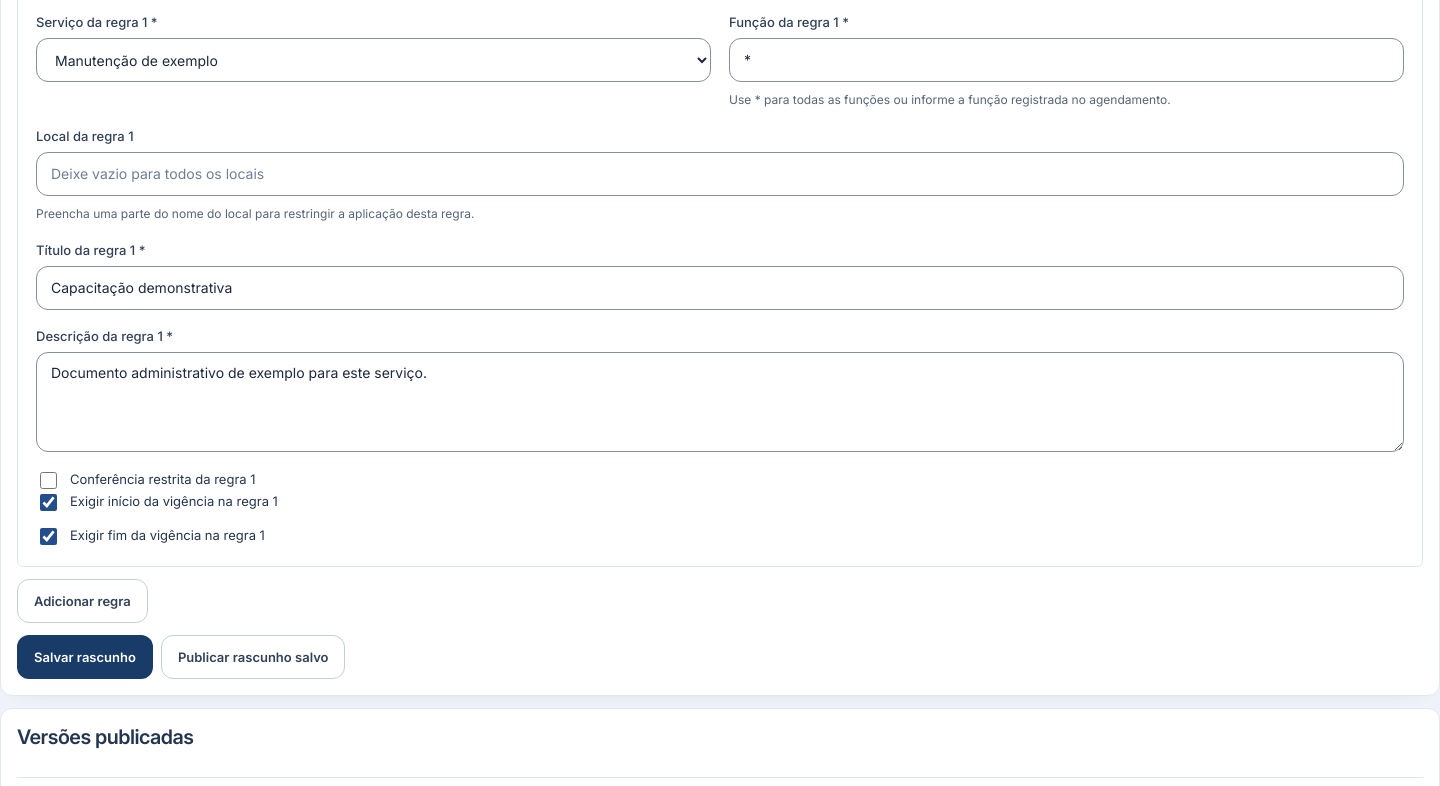
it: matriz de requisitos por unidade › remove exigências de datas ao marcar regra restrita e permite adicionar/remover regras
The image size is (1440, 786).
(page scrolled)
Step 1. Click the checkbox labelled "Conferência restrita da regra 1" → coordinates (48, 480), box top-left (40, 472), bottom-right (57, 489)
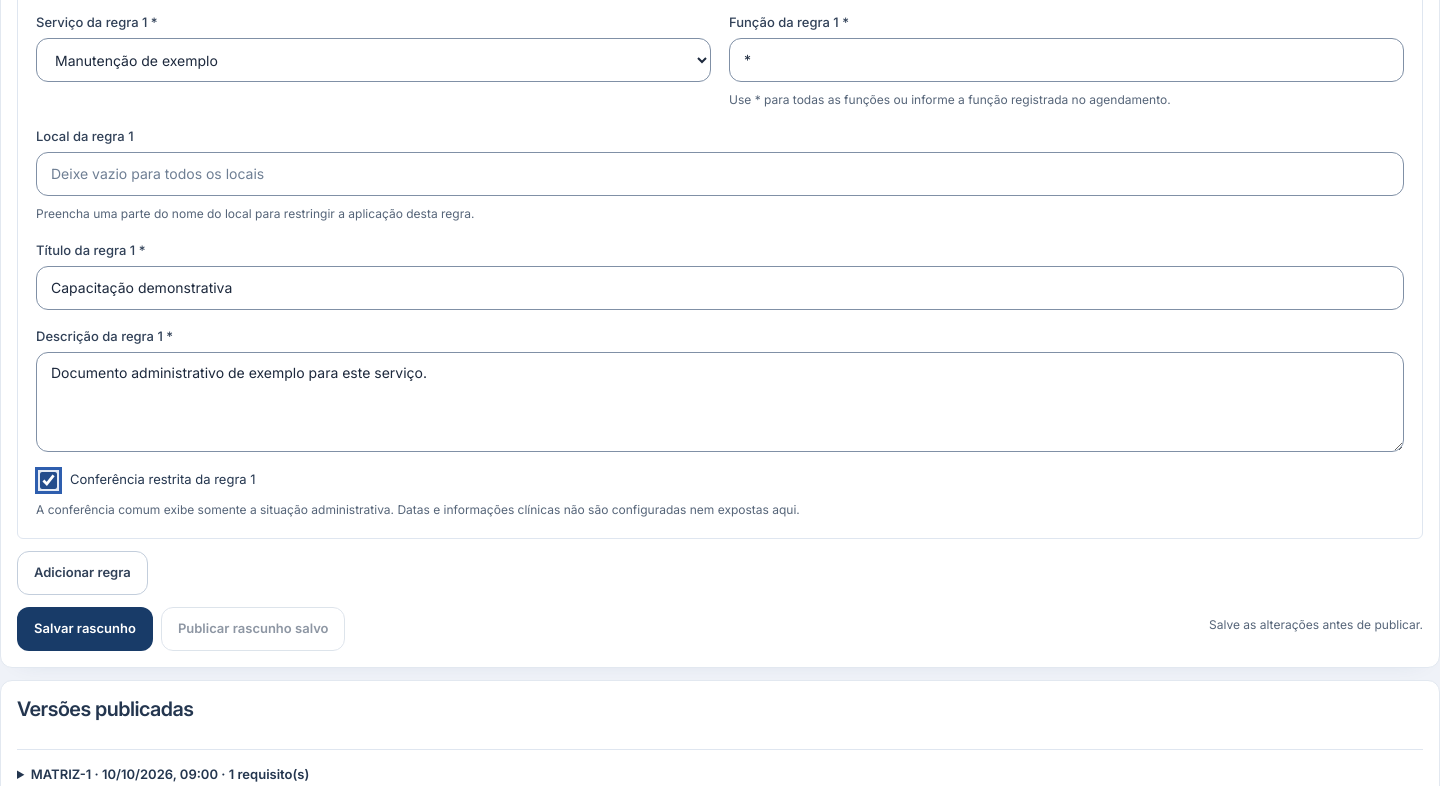
Result: the text labelled "Exigir início da vigência na regra 1" is gone
Result: the text labelled "Exigir fim da vigência na regra 1" is gone
Step 2. Click the button "Adicionar regra" → coordinates (82, 572), box top-left (17, 550), bottom-right (148, 594)
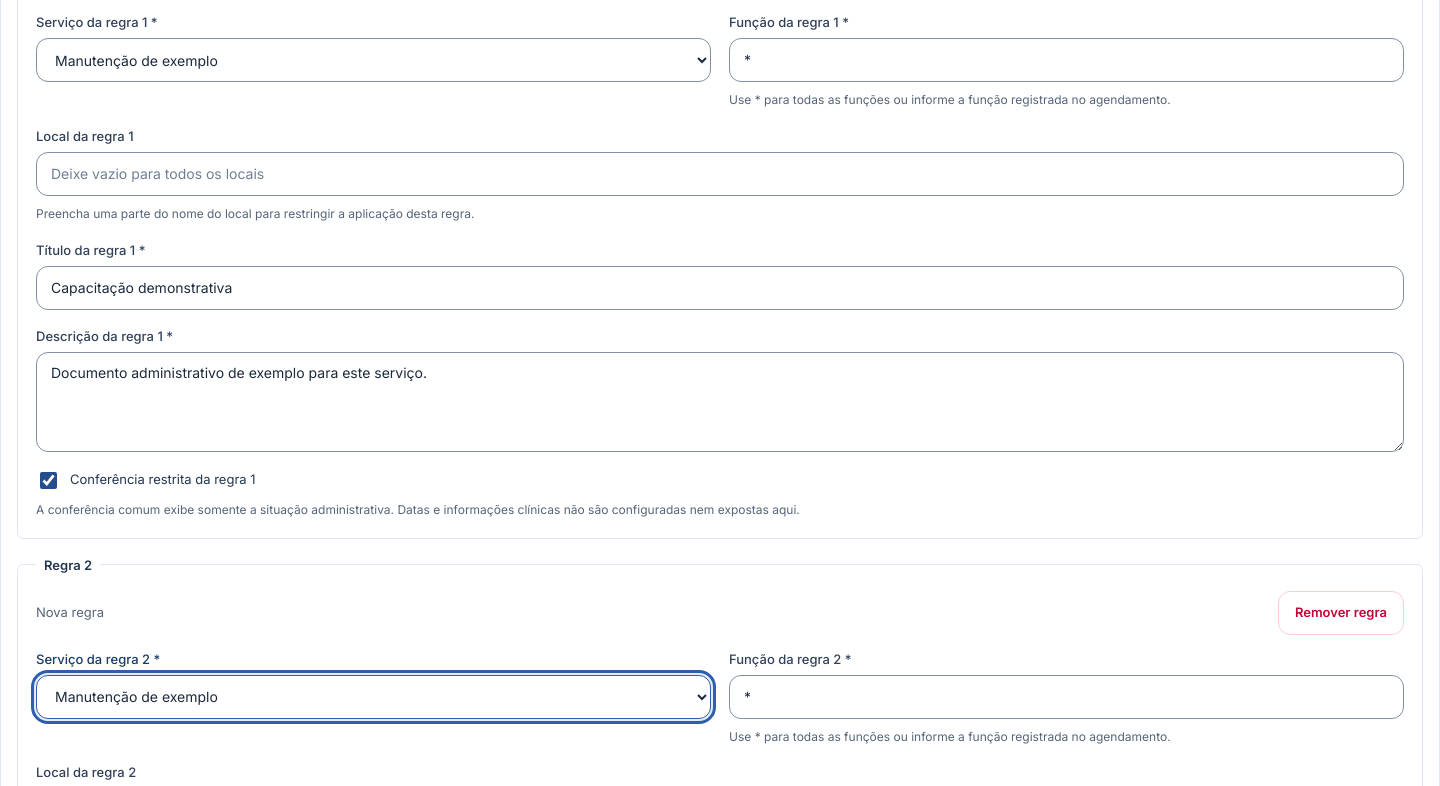
Result: the field labelled "Função da regra 2 *" holds "*" at top-left (729, 674), bottom-right (1404, 718)
Step 3. Click the button with aria-label "Remover regra 2" → coordinates (1341, 612), box top-left (1278, 590), bottom-right (1404, 634)
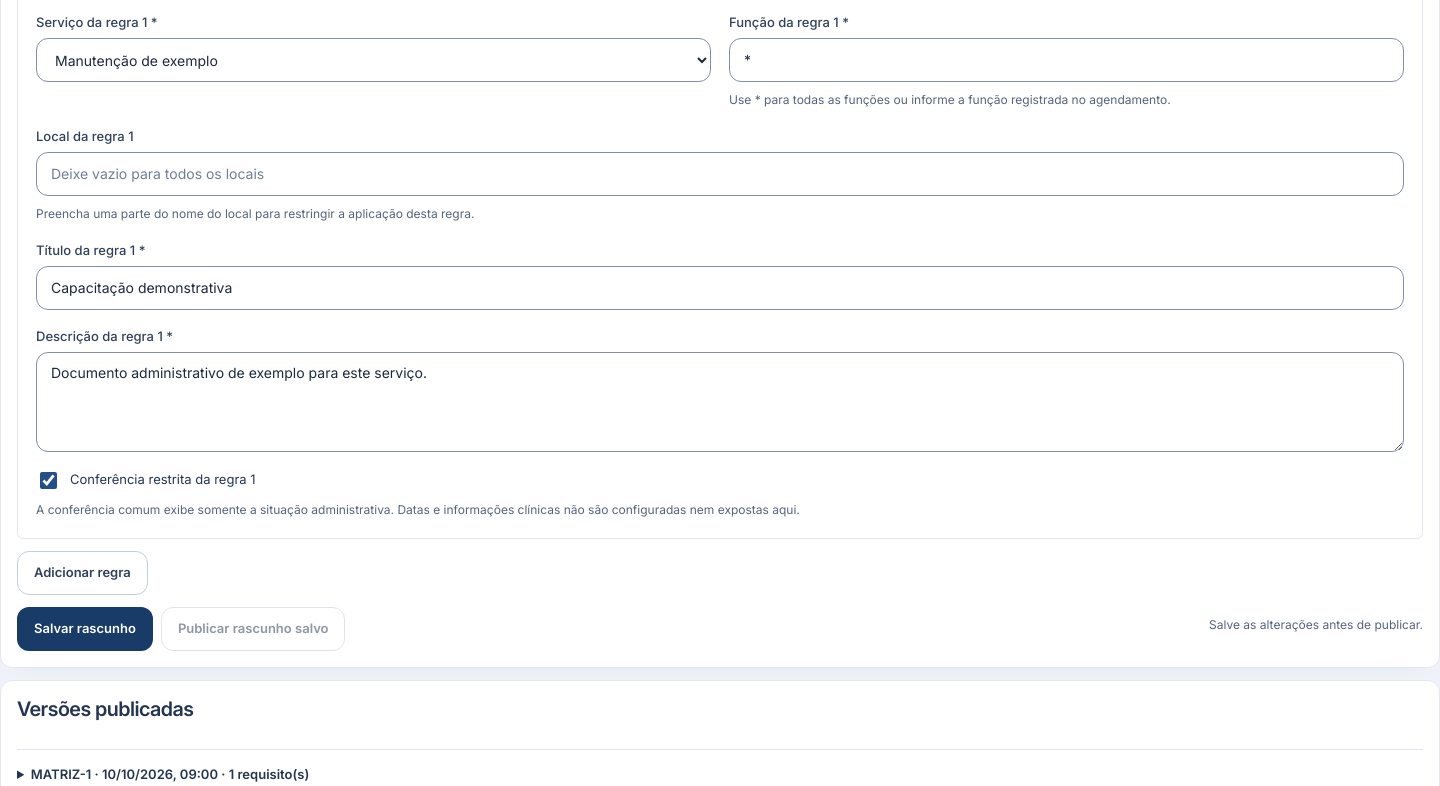
Step 4. Click the button "Salvar rascunho" → coordinates (85, 628), box top-left (17, 606), bottom-right (153, 650)
(page scrolled)
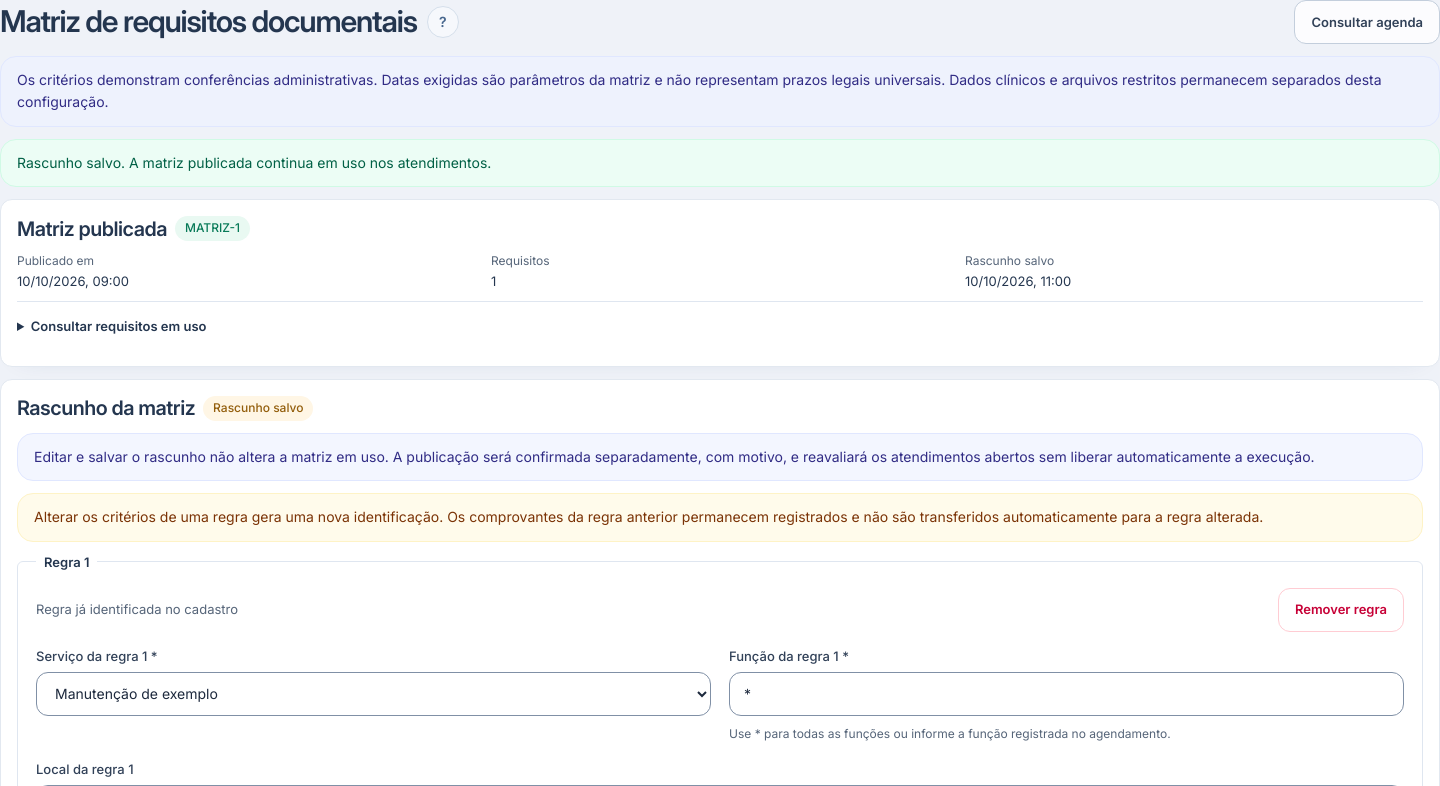
Result: the text "Rascunho salvo. A matriz publicada continua em uso nos atendimentos." is shown at top-left (0, 139), bottom-right (1439, 187)
